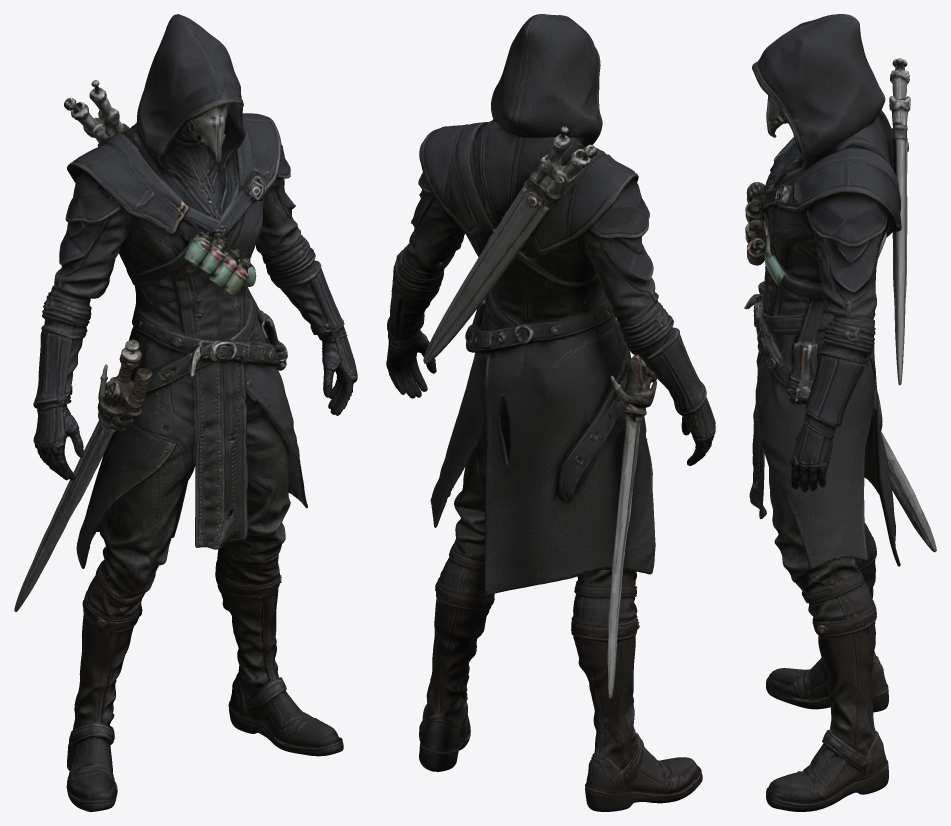
File: low player.fbx
The picture shows the model from 3 angles, left to right: view 1: azimuth 30°, elevation 25°; view 2: azimuth 150°, elevation 25°; view 3: azimuth 270°, elevation 25°; orthographic projection. The views are drawn at different scales.
Parts seen in each view (by area): view 1: tripo_node_c893cc8e; view 2: tripo_node_c893cc8e; view 3: tripo_node_c893cc8e.
Part boxes in pixels (x1,y1,x2,y2): tripo_node_c893cc8e: [14, 14, 357, 811]; tripo_node_c893cc8e: [386, 14, 715, 811]; tripo_node_c893cc8e: [744, 14, 936, 811].
Size of the model in its own units: 43.44 by 97.96 by 23.24.
